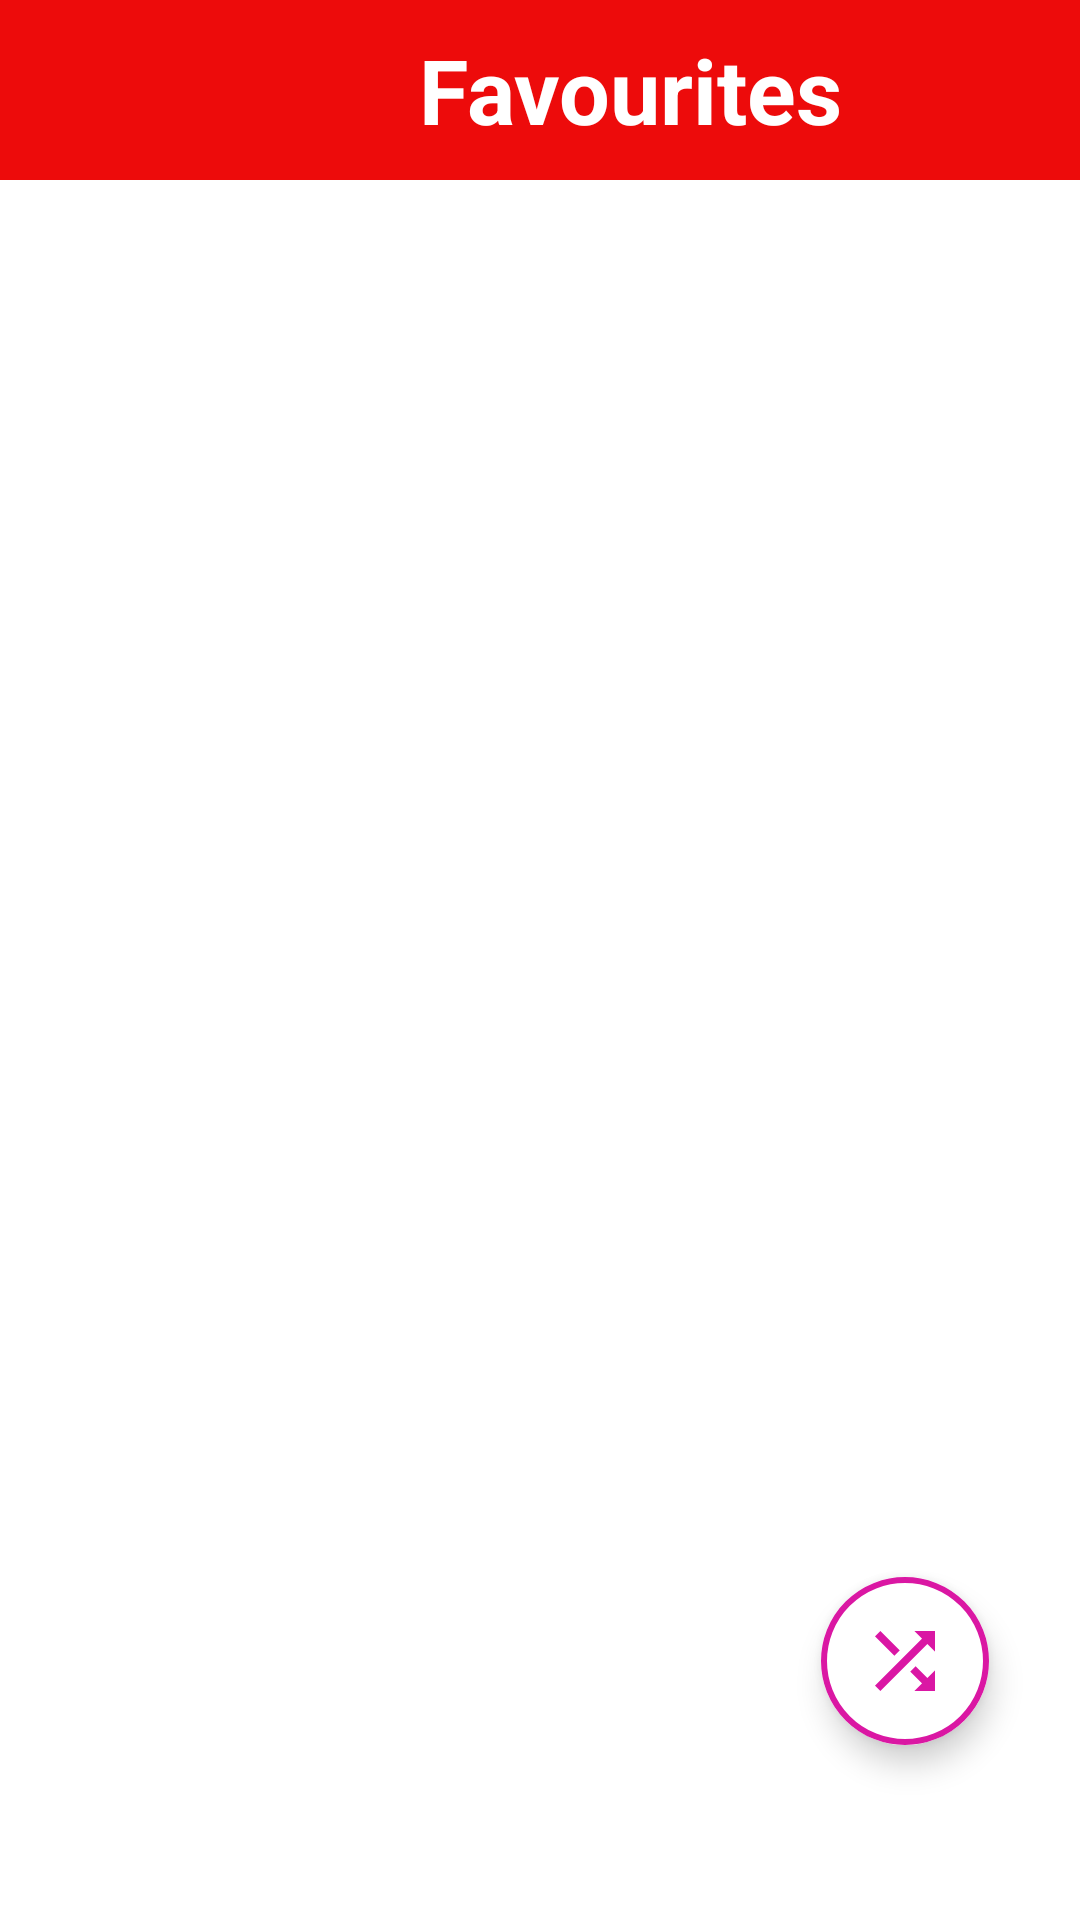

Where icons sit on this 1080×1920 app screen, as (x1,y1,x2,y2):
shuffle: (821,1577,989,1745)
